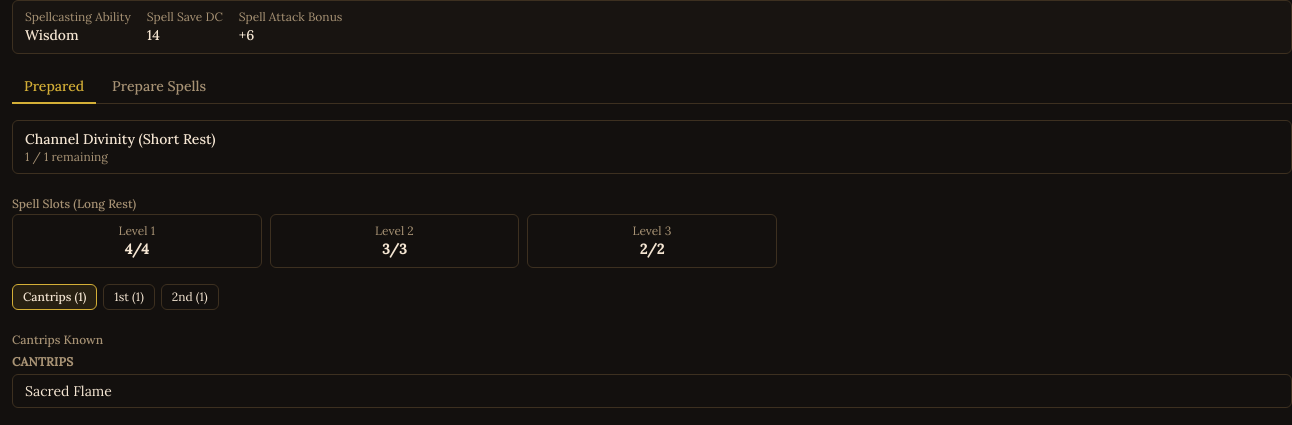
ClericSheet — unified Spells tab layout › switching level tabs swaps which prepared spells are listed
Expected: the button with test id "spell-level-tab-0" is shown, [12, 284, 97, 310]
Expected: the button "Sacred Flame" is shown, [25, 381, 1271, 401]
Click the button with test id "spell-level-tab-2".
click(190, 297)  # box [161, 284, 219, 310]
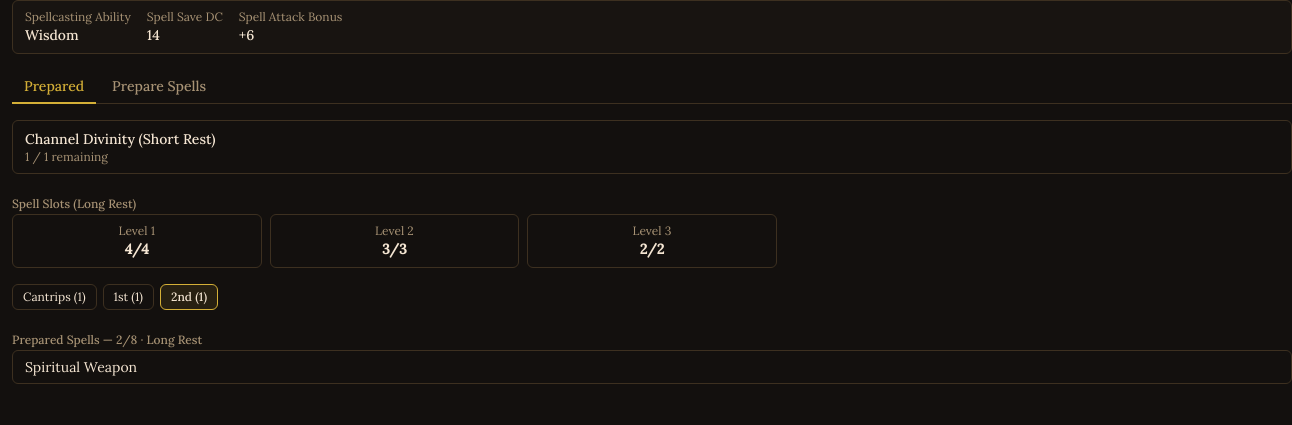
Expected: the button "Spiritual Weapon" is shown, [25, 357, 1271, 377]
